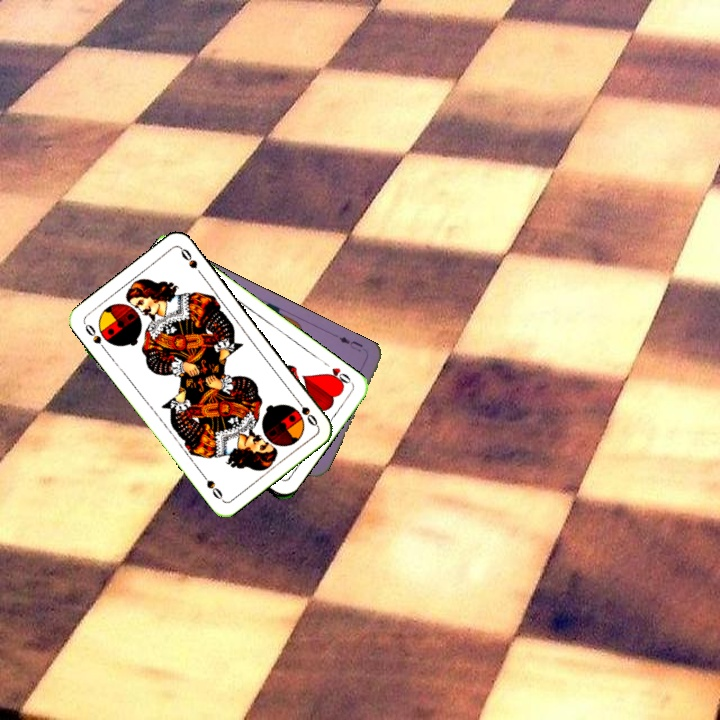EU: (335, 332, 365, 354)
HO: (320, 358, 355, 389)
SO: (80, 319, 111, 354), (291, 394, 320, 429)
